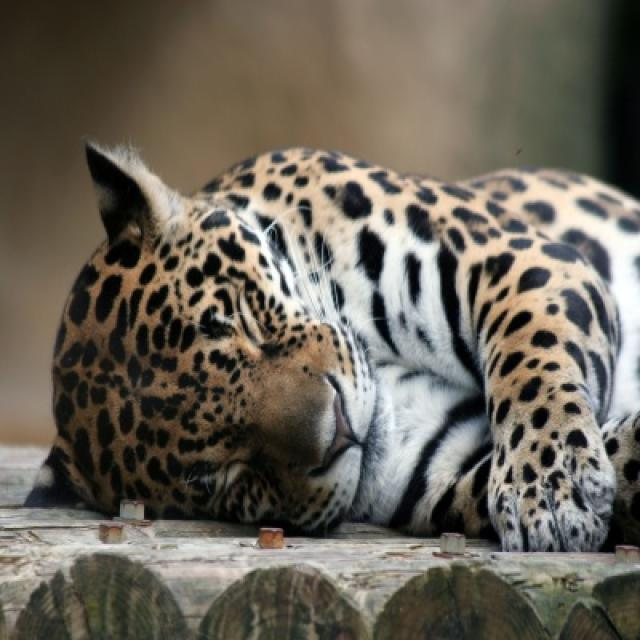Jaguar: (42, 144, 638, 555)
